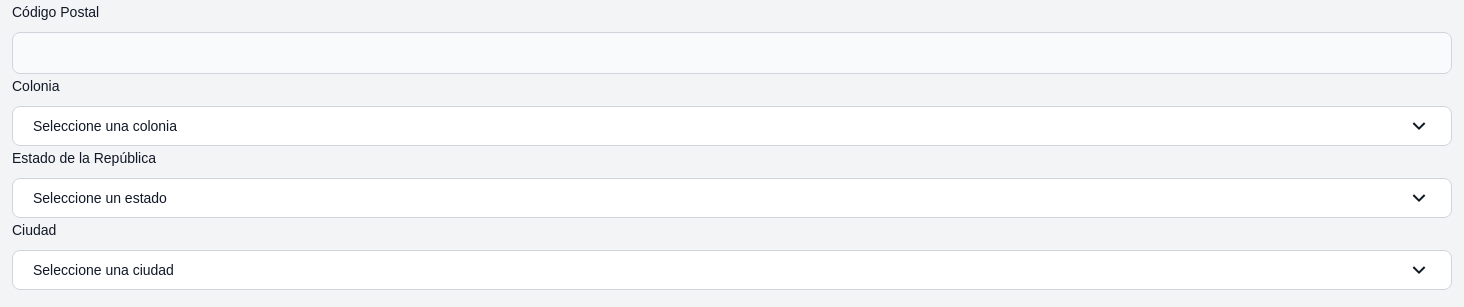
Test: AutocompleteZipcode › auto-selects neighborhood when only one option is available
Type "12345" into the field with test id "zipcode" at x=732, y=53, box [12,32,1452,74]
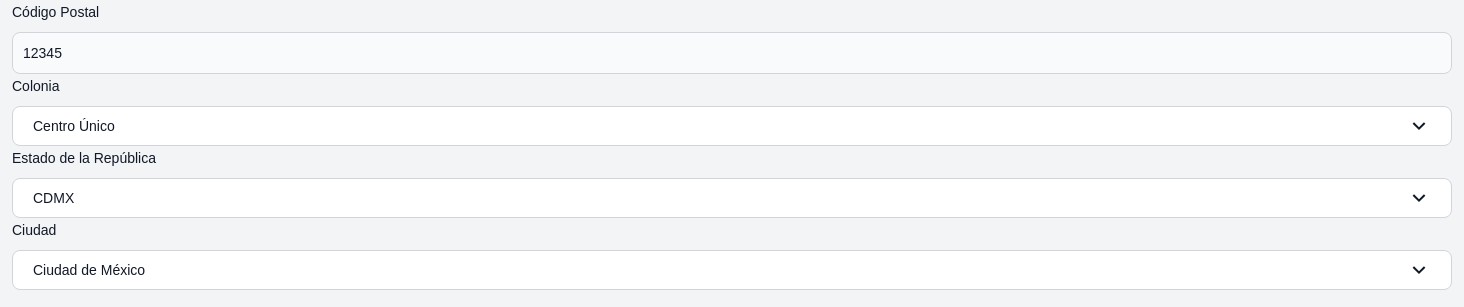
Now the button with test id "autocomplete-dropdown-neighborhood-button" reads "Centro Único", box [12,106,1452,146]
